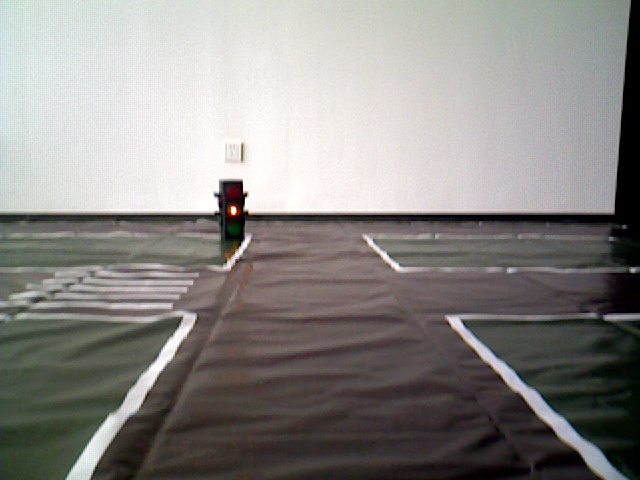yellow: (213, 178, 248, 238)
